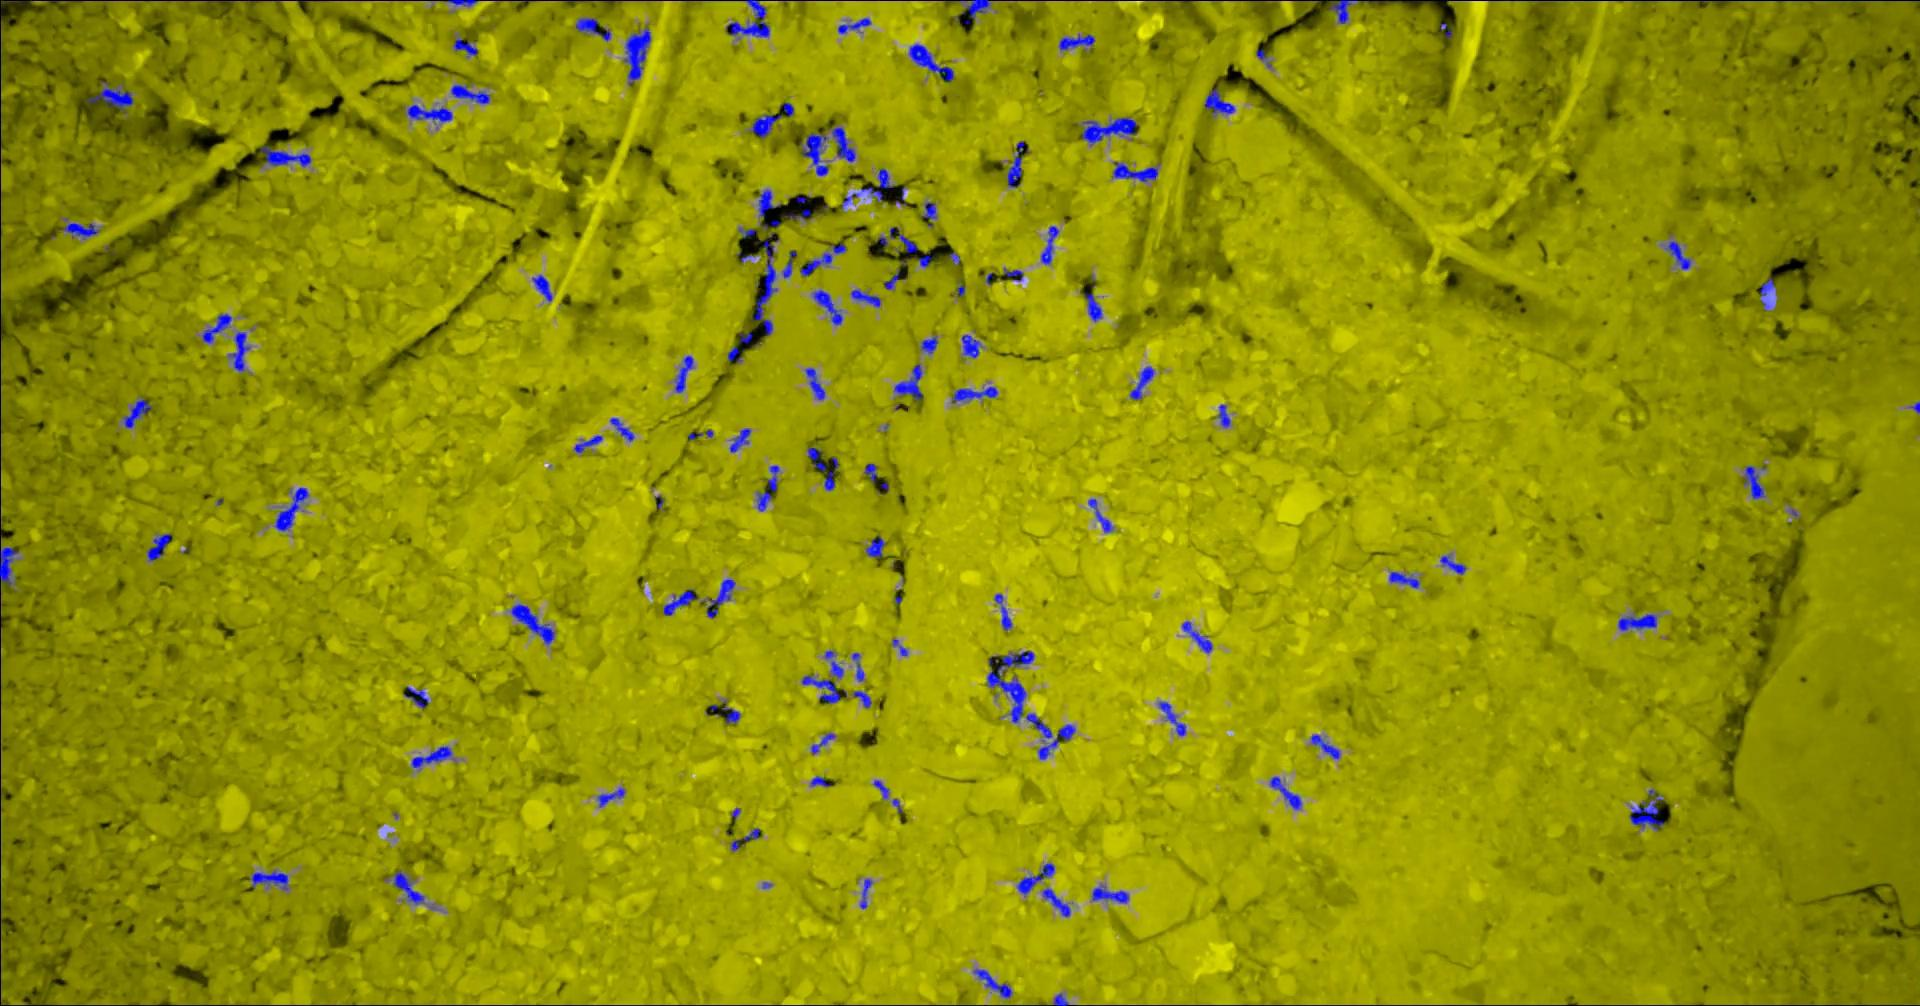ant: (756, 239, 778, 335), (512, 603, 556, 644), (910, 43, 955, 81), (728, 0, 771, 37), (626, 25, 651, 85), (801, 243, 847, 276), (1083, 117, 1139, 144), (276, 486, 310, 530), (89, 79, 135, 111), (1630, 789, 1666, 829), (1018, 862, 1057, 895), (705, 579, 737, 617), (803, 133, 830, 175), (1330, 0, 1380, 23), (862, 166, 895, 201), (895, 363, 924, 401), (803, 674, 842, 702), (975, 969, 1015, 997), (262, 145, 312, 166), (1271, 776, 1303, 809), (814, 290, 844, 324), (395, 870, 425, 904), (758, 465, 780, 511), (1010, 141, 1030, 187), (830, 127, 857, 161), (1161, 701, 1187, 735), (413, 746, 455, 767), (1112, 161, 1159, 180), (1183, 621, 1213, 652), (665, 589, 700, 615), (577, 17, 612, 41), (230, 332, 251, 371), (1090, 498, 1114, 532), (204, 312, 232, 342), (124, 398, 152, 427), (1205, 86, 1236, 113), (1131, 366, 1156, 399), (1044, 888, 1072, 916), (409, 104, 455, 121), (452, 84, 491, 103), (753, 114, 783, 138), (676, 354, 695, 392), (1, 547, 20, 586), (251, 870, 290, 889), (952, 386, 999, 401), (1745, 465, 1766, 498), (1312, 734, 1341, 758), (1043, 225, 1060, 263), (1667, 241, 1691, 269), (759, 189, 782, 218), (731, 827, 761, 850), (996, 593, 1013, 630), (1619, 614, 1658, 630), (611, 417, 636, 441), (149, 533, 171, 560), (63, 222, 100, 239), (1093, 885, 1130, 902), (806, 367, 825, 399), (1060, 33, 1096, 50), (1084, 291, 1103, 321), (405, 686, 430, 708), (839, 17, 872, 33), (900, 232, 919, 260), (825, 650, 844, 678), (811, 732, 836, 753), (852, 290, 881, 307), (575, 434, 604, 452), (731, 427, 752, 452), (533, 274, 552, 301), (599, 788, 626, 807), (1441, 555, 1467, 574), (963, 334, 983, 357), (1390, 572, 1421, 587), (968, 0, 990, 19), (723, 700, 742, 723), (455, 38, 479, 56), (809, 446, 827, 470), (880, 226, 900, 246), (867, 536, 886, 558), (923, 201, 938, 227), (783, 250, 797, 277), (885, 268, 902, 290), (861, 878, 872, 908), (853, 652, 865, 681), (855, 690, 872, 708), (785, 208, 811, 220), (1760, 277, 1777, 295), (1257, 48, 1272, 67), (1219, 404, 1232, 427), (875, 779, 890, 798), (729, 345, 745, 362), (893, 639, 909, 655), (1004, 267, 1025, 279), (923, 337, 938, 353), (690, 429, 714, 439), (444, 0, 479, 6), (811, 776, 832, 786), (866, 464, 877, 481), (825, 471, 836, 490), (919, 254, 936, 265), (1055, 993, 1070, 1005), (742, 332, 754, 344), (783, 102, 795, 116), (1684, 0, 1738, 1)
